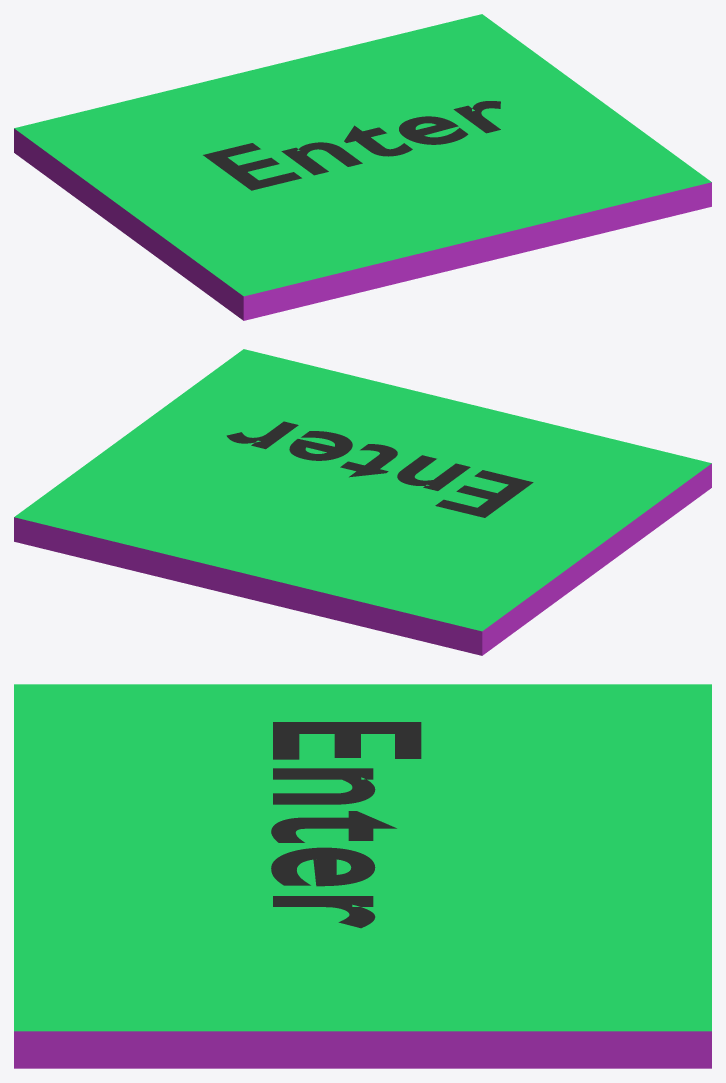
The model's file is table.glb.
The picture shows the model from 3 angles, top to bottom: view 1: azimuth 30°, elevation 25°; view 2: azimuth 150°, elevation 25°; view 3: azimuth 270°, elevation 25°; orthographic projection. The views are drawn at different scales.
Visible parts, largest first — view 1: Cube.005, Text; view 2: Cube.005, Text; view 3: Cube.005, Text.
Boxes of the visible parts, x1=… form: Cube.005: x1=14, y1=14, x2=711, y2=320; Text: x1=203, y1=101, x2=500, y2=190; Cube.005: x1=14, y1=349, x2=711, y2=655; Text: x1=226, y1=421, x2=533, y2=517; Cube.005: x1=14, y1=684, x2=711, y2=1068; Text: x1=271, y1=722, x2=421, y2=928.
Bounding box in the file's own units: 4 × 0.3684 × 3.4.
